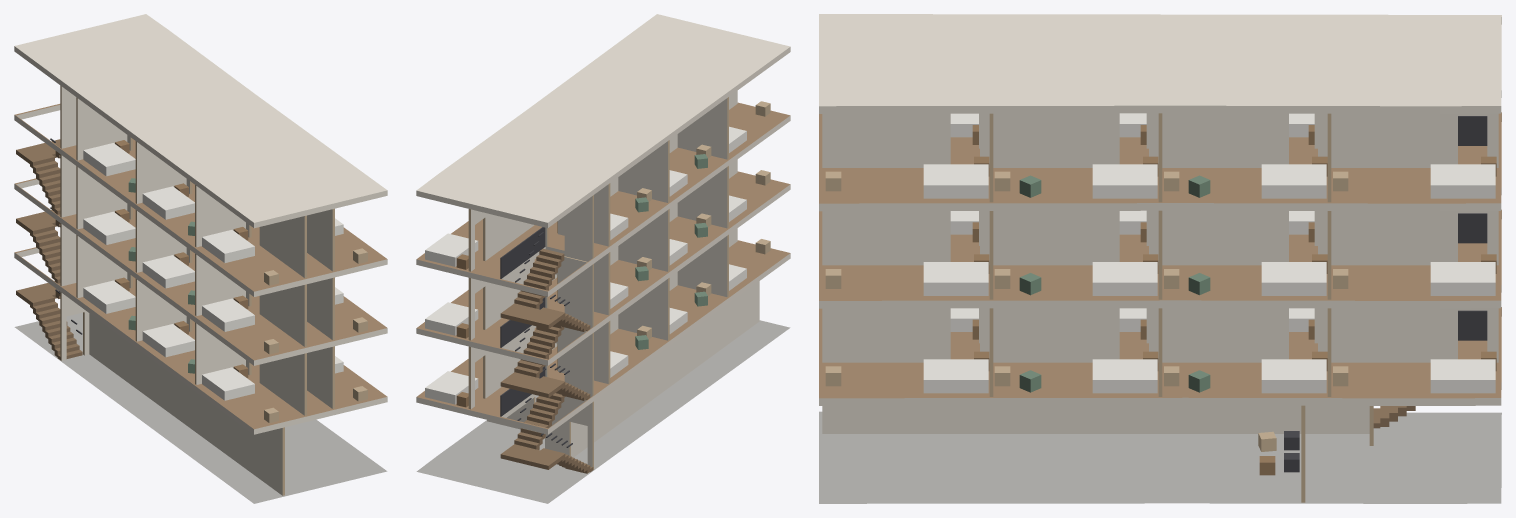
Rendered from interior.glb.
3 renders of one model, left to right at view 1: azimuth 30°, elevation 25°; view 2: azimuth 150°, elevation 25°; view 3: azimuth 270°, elevation 25°, orthographic. The views are drawn at different scales.
Visible parts, largest first — view 1: slabs, partitions, stair, coarse-s2, coarse-s1, coarse-s3; view 2: slabs, partitions, stair, coarse-s2, coarse-s3, coarse-s1; view 3: slabs, partitions, coarse-s3, coarse-s1, coarse-s2, stair, coarse-s0.
Part boxes in pixels (left/top/right/bottom): slabs: left=14, top=14, right=387, bottom=503; partitions: left=60, top=85, right=334, bottom=495; stair: left=16, top=138, right=82, bottom=360; coarse-s2: left=83, top=209, right=367, bottom=354; coarse-s1: left=83, top=277, right=367, bottom=423; coarse-s3: left=83, top=140, right=367, bottom=285; slabs: left=416, top=14, right=790, bottom=503; partitions: left=468, top=91, right=759, bottom=469; stair: left=500, top=227, right=593, bottom=473; coarse-s2: left=425, top=170, right=770, bottom=338; coarse-s3: left=425, top=101, right=770, bottom=269; coarse-s1: left=425, top=239, right=770, bottom=407; slabs: left=819, top=14, right=1501, bottom=503; partitions: left=822, top=113, right=1498, bottom=502; coarse-s3: left=825, top=113, right=1496, bottom=198; coarse-s1: left=825, top=308, right=1496, bottom=393; coarse-s2: left=825, top=210, right=1496, bottom=295; stair: left=1373, top=116, right=1487, bottom=428; coarse-s0: left=1258, top=431, right=1299, bottom=475.
Bounding box in the file's own units: 6.71 × 13.5 × 20.97.
